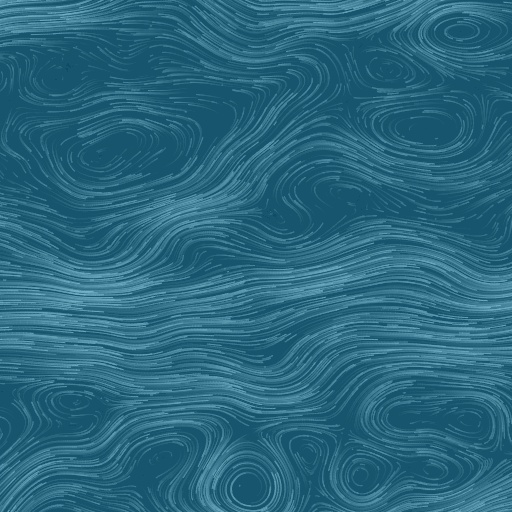eddy: (372, 388, 503, 455), (369, 96, 476, 167), (336, 444, 452, 500), (66, 120, 159, 183), (416, 2, 512, 58), (210, 451, 284, 511), (362, 49, 417, 87), (293, 434, 323, 480), (49, 389, 94, 413)
